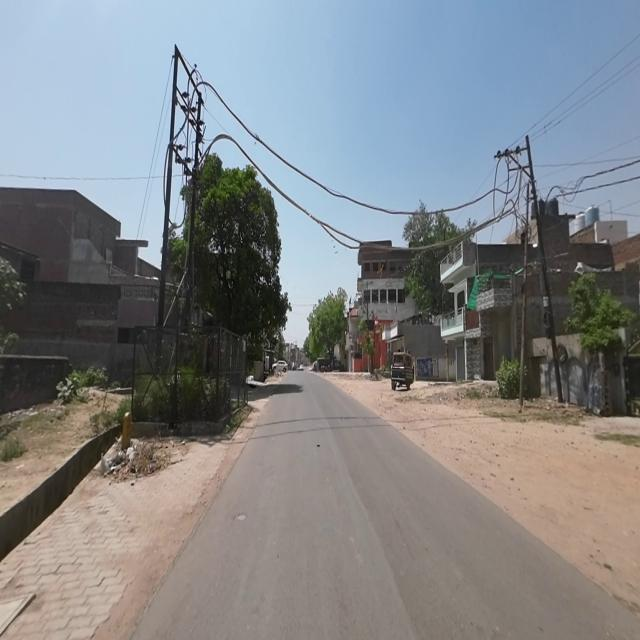Garbage: (103, 446, 164, 478)
